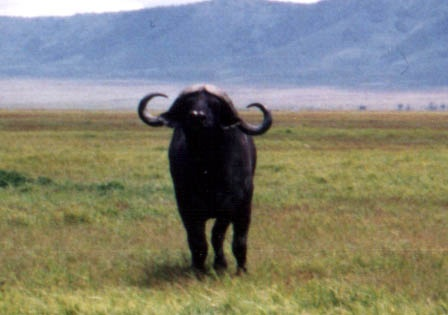buffalo: (137, 82, 273, 282)
